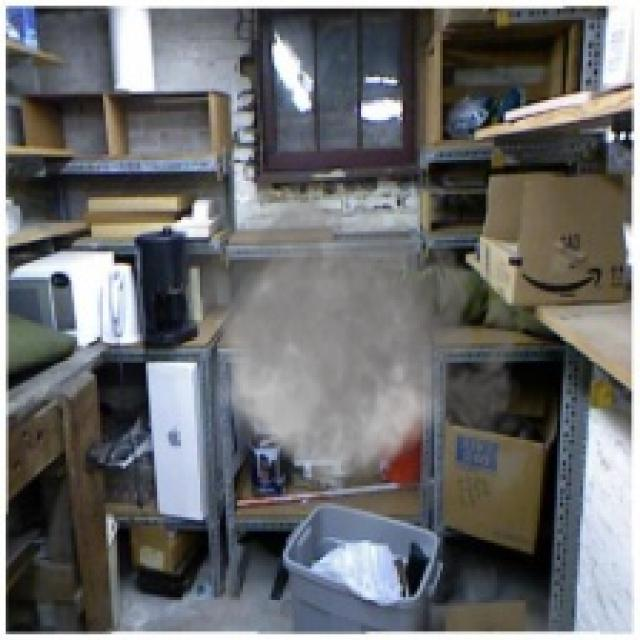Smoke: (163, 166, 543, 554)
